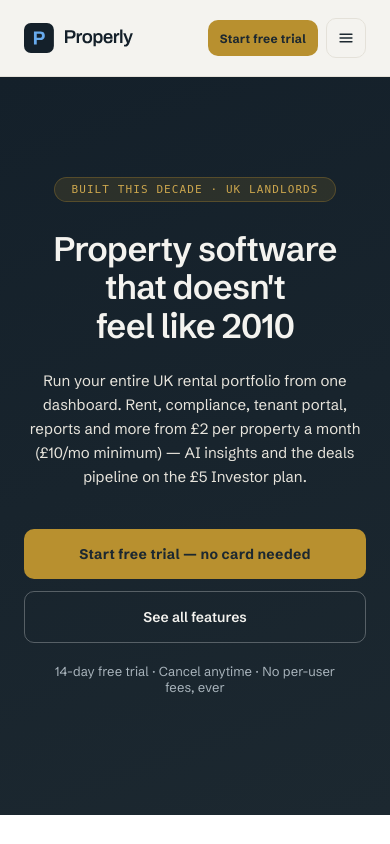
Scenario: MarketingSite accessibility › renders the mobile menu from the hamburger toggle and closes on Escape
This screenshot has width=390, height=844.
Click the button with class "mkt-burger".
click(346, 38)  # box [326,18,366,58]
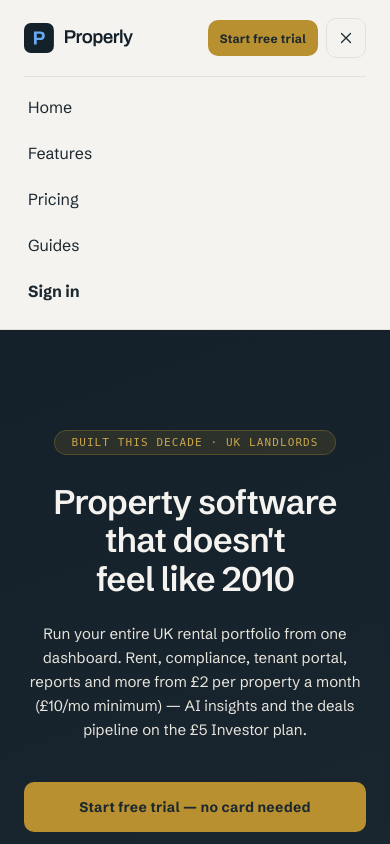
Check: the element with id "mkt-mobile-menu" is shown, box [24,76,366,329]
Check: the button with class "mkt-burger" is expanded, box [326,18,366,58]
Press Escape
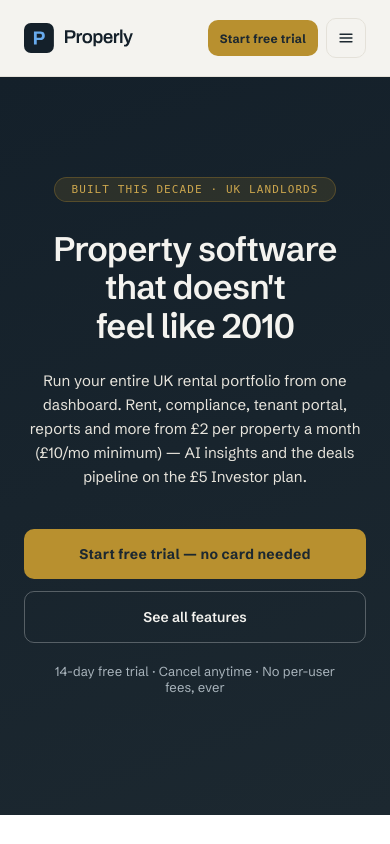
Check: the element with id "mkt-mobile-menu" is gone
